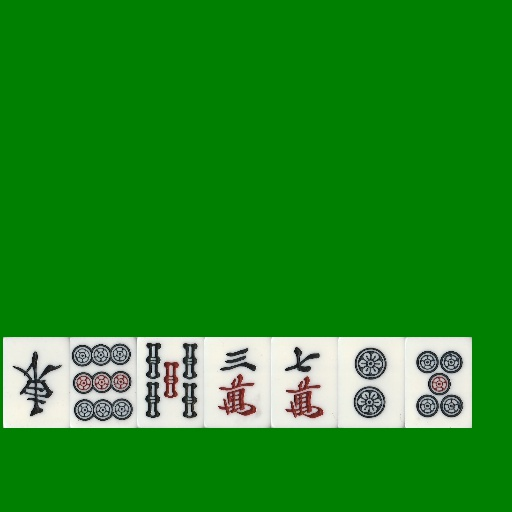2p: (338, 337, 405, 428)
3m: (204, 337, 271, 428)
5p: (405, 337, 472, 428)
5s: (137, 337, 204, 428)
7m: (271, 337, 338, 428)
9p: (70, 337, 137, 428)
east: (3, 337, 70, 428)
